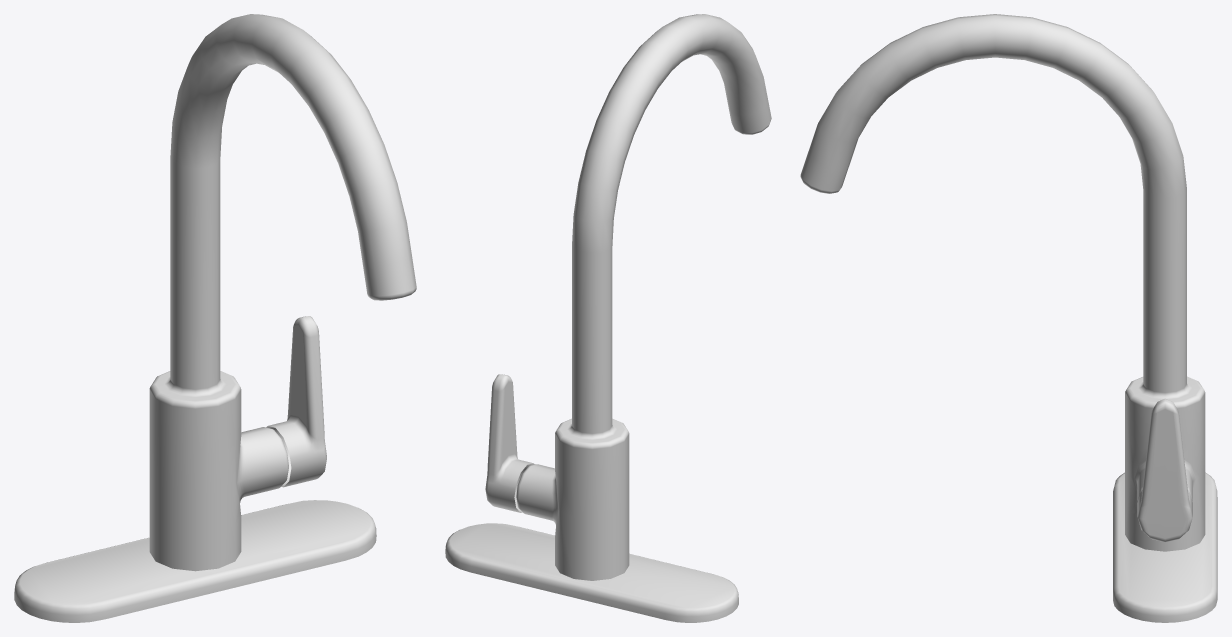
File: SM_faucet.glb
The picture shows the model from 3 angles, left to right: view 1: azimuth 30°, elevation 25°; view 2: azimuth 150°, elevation 25°; view 3: azimuth 270°, elevation 25°; orthographic projection. The views are drawn at different scales.
Visible parts, largest first — view 1: SM_faucet; view 2: SM_faucet; view 3: SM_faucet.
Part boxes in pixels (<box>): SM_faucet: <box>14,14,416,622</box>; SM_faucet: <box>445,14,771,622</box>; SM_faucet: <box>800,14,1217,622</box>.
Bounding box in the file's own units: 0.2242 × 0.3768 × 0.2671.
1 material, 1 textured.
